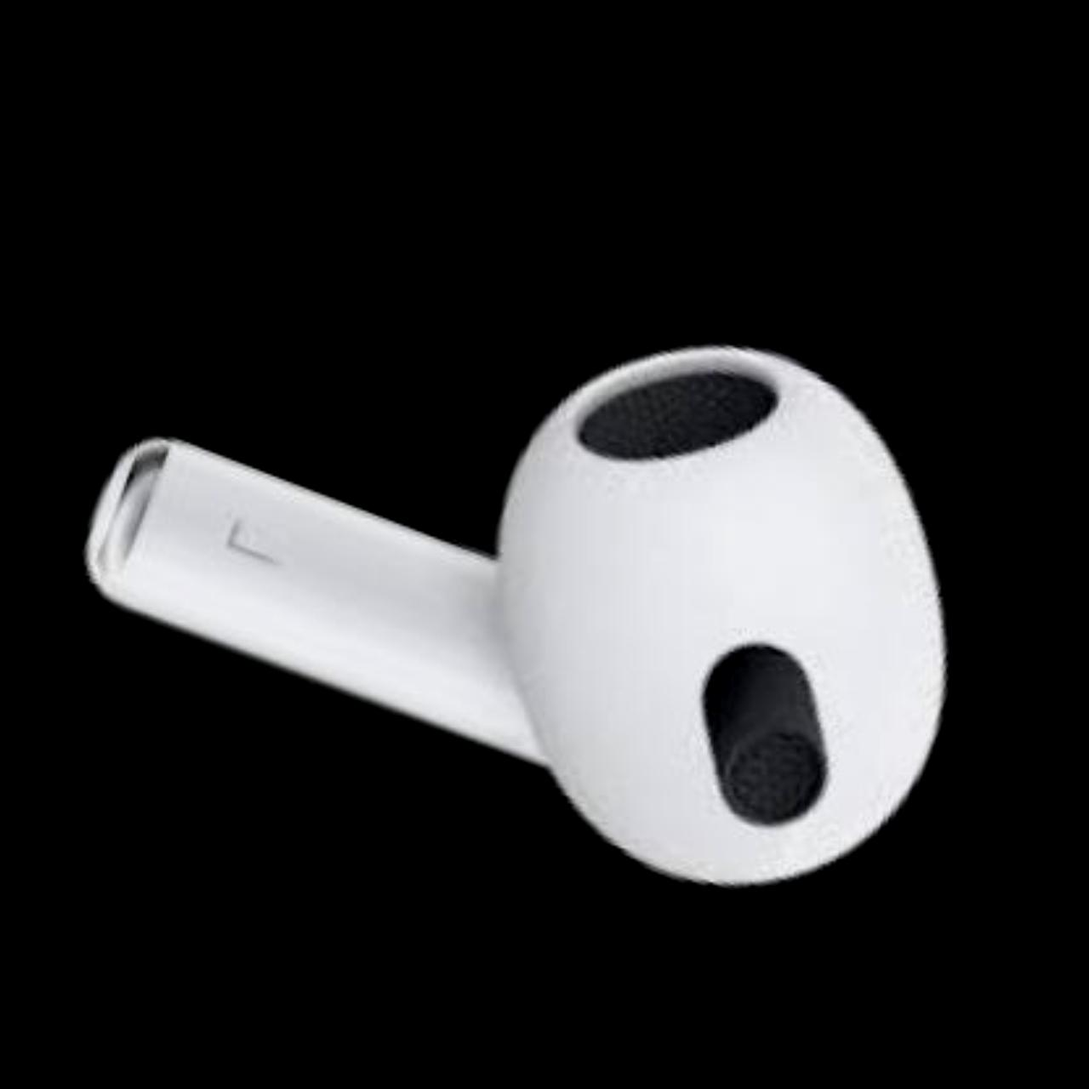Airpods_Units: (15, 130, 1059, 978)
